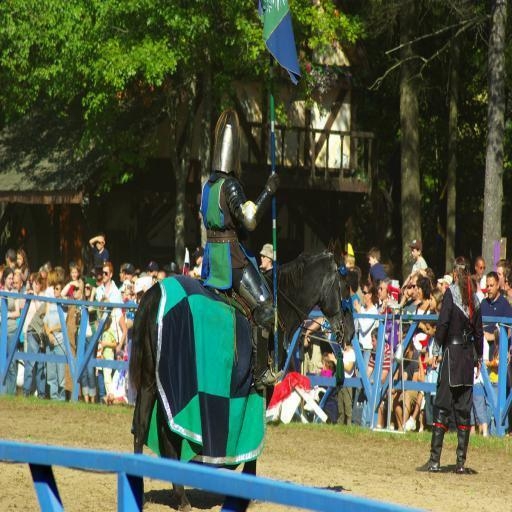horse: (132, 234, 358, 512)
